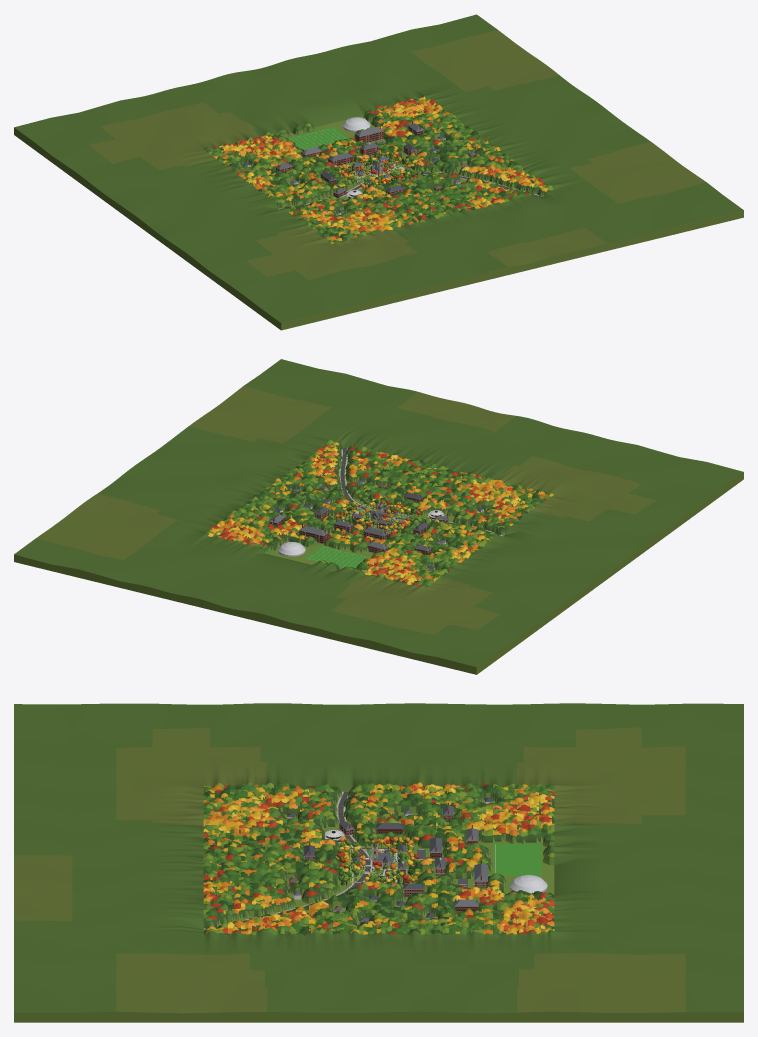
The model's file is campus.glb.
3 renders of one model, top to bottom at view 1: azimuth 30°, elevation 25°; view 2: azimuth 150°, elevation 25°; view 3: azimuth 270°, elevation 25°, orthographic. The views are drawn at different scales.
Parts seen in each view (by area): view 1: ground, buildings, trees; view 2: ground, buildings, trees; view 3: ground, buildings, trees.
Boxes of the visible parts, box(x1,y1,x2,y2) form: ground: box(14, 14, 743, 330); buildings: box(242, 117, 476, 215); trees: box(333, 150, 424, 190); ground: box(14, 359, 743, 674); buildings: box(269, 480, 484, 569); trees: box(334, 495, 422, 533); ground: box(14, 703, 743, 1022); buildings: box(287, 797, 547, 924); trees: box(336, 835, 420, 886).
Size of the model in its own units: 1000 by 37.6 by 1000.
